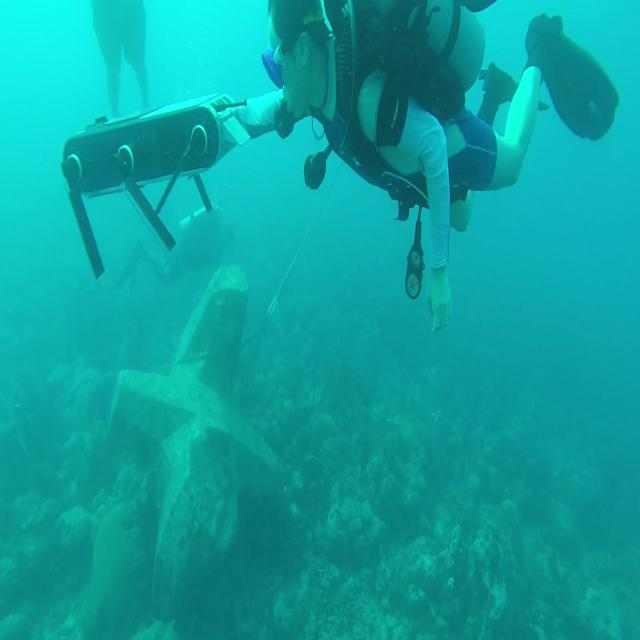human: (255, 1, 619, 333)
